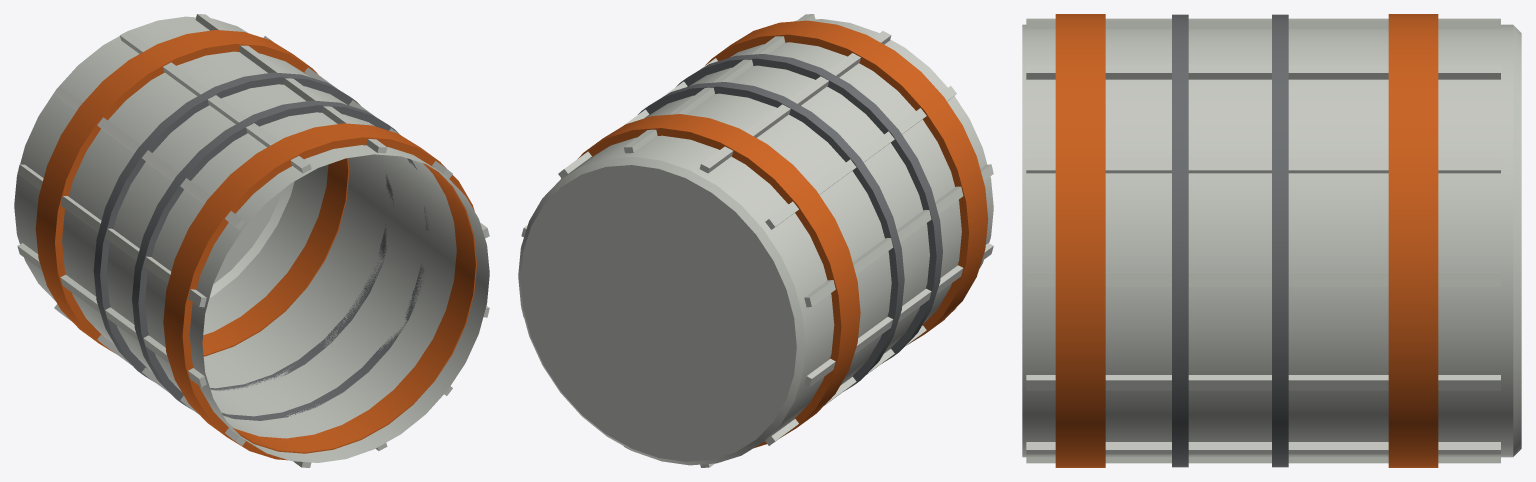
The model's file is u65m_housing.obj.
The picture shows the model from 3 angles, left to right: view 1: azimuth 30°, elevation 25°; view 2: azimuth 150°, elevation 25°; view 3: azimuth 270°, elevation 25°; orthographic projection. The views are drawn at different scales.
Visible parts, largest first — view 1: u65m_housing; view 2: u65m_housing; view 3: u65m_housing.
Part boxes in pixels (x1=…): u65m_housing: x1=14, y1=14, x2=489, y2=467; u65m_housing: x1=518, y1=14, x2=993, y2=467; u65m_housing: x1=1022, y1=14, x2=1521, y2=467.
Size of the model in its own units: 2.73 by 2.73 by 3.
